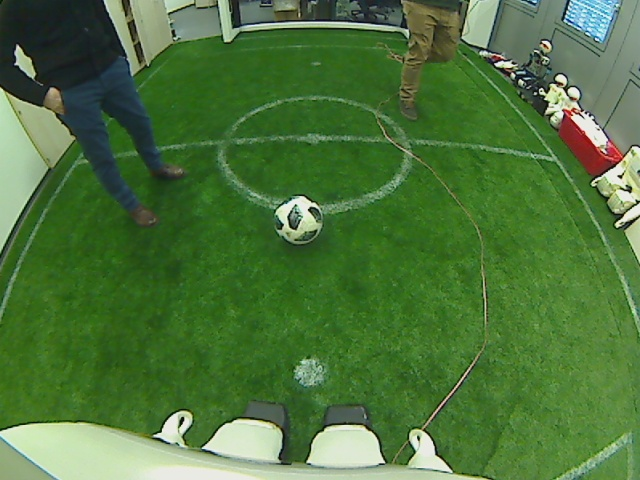ball: (273, 195, 324, 243)
